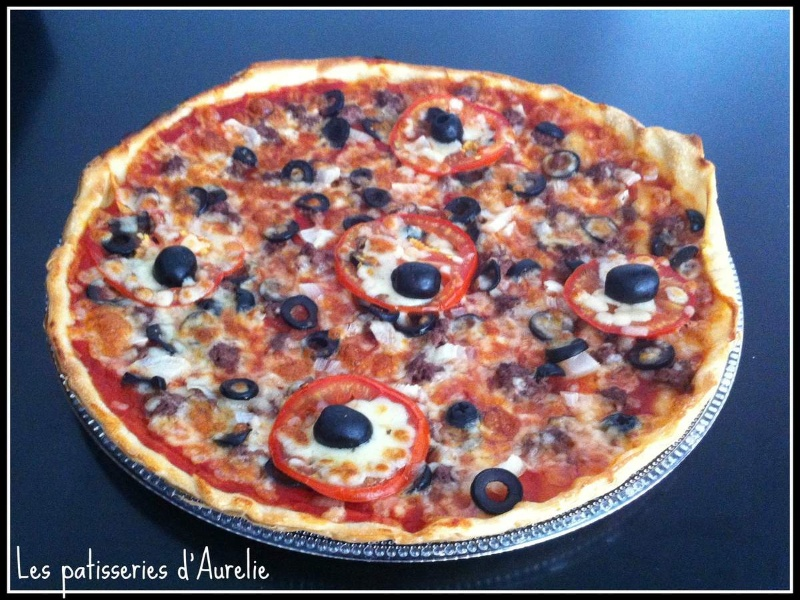olive noir: (466, 467, 530, 517), (312, 400, 374, 449), (601, 261, 659, 305), (393, 255, 443, 301), (277, 291, 329, 332), (628, 333, 679, 374), (154, 242, 193, 292), (392, 305, 443, 337), (444, 193, 483, 233), (299, 324, 342, 358), (428, 108, 464, 148), (536, 148, 581, 180), (292, 186, 335, 215), (280, 156, 318, 184), (216, 377, 262, 400), (441, 400, 481, 426), (480, 254, 502, 294)
